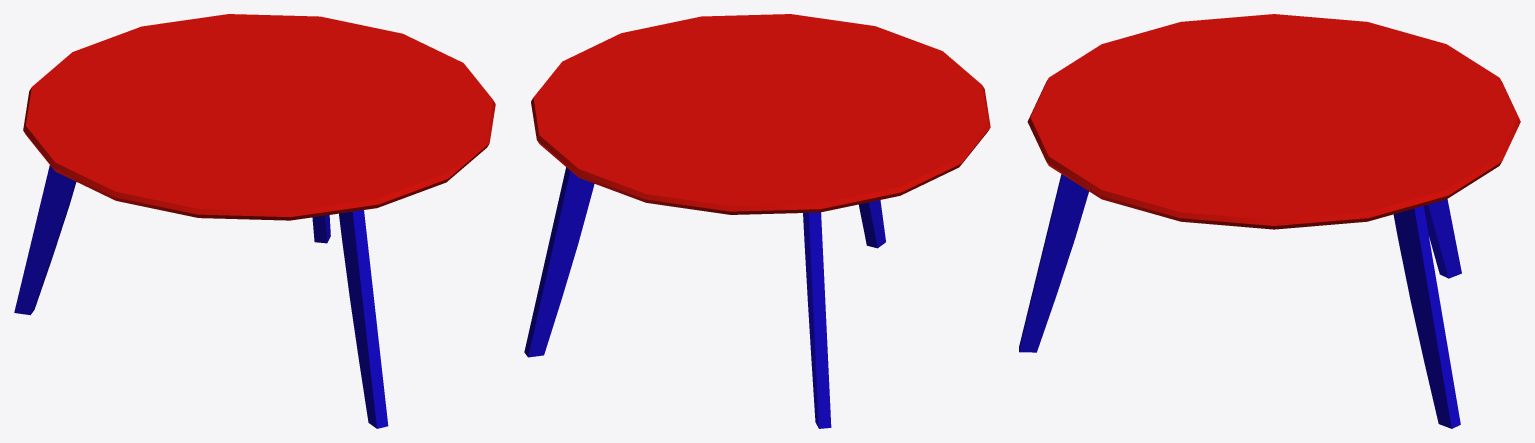
The model's file is Small table.fbx.
The picture shows the model from 3 angles, left to right: view 1: azimuth 30°, elevation 25°; view 2: azimuth 150°, elevation 25°; view 3: azimuth 270°, elevation 25°; orthographic projection. The views are drawn at different scales.
Parts seen in each view (by area): view 1: Small Table; view 2: Small Table; view 3: Small Table.
Boxes of the visible parts, left/top/right/bottom form: Small Table: left=14, top=14, right=495, bottom=428; Small Table: left=524, top=14, right=990, bottom=428; Small Table: left=1019, top=14, right=1520, bottom=428.
Size of the model in its own units: 110 by 57.35 by 112.
